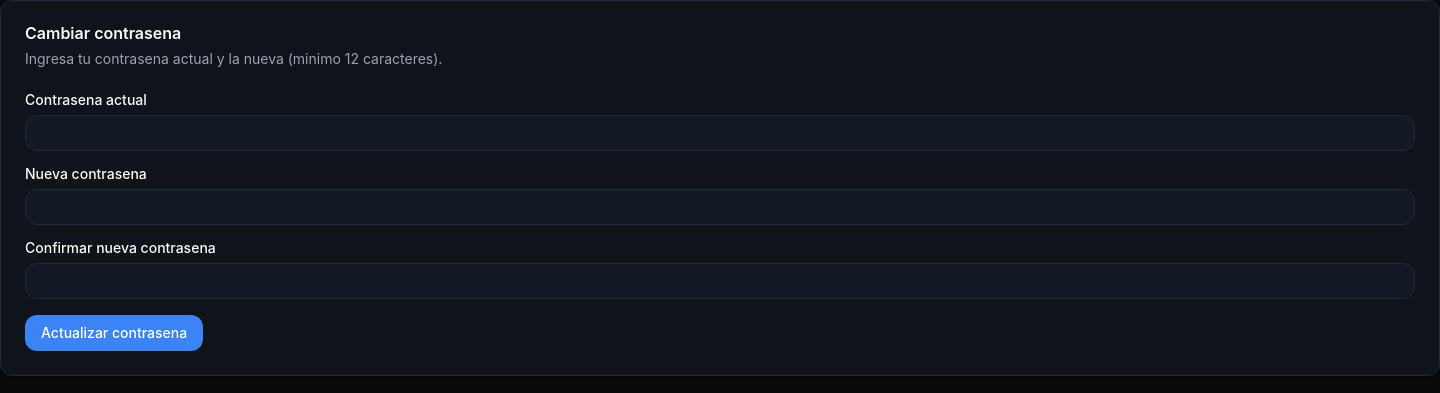
Test: ChangePasswordForm pending › Given submit en vuelo When responde lento Then muestra Actualizando...
This screenshot has width=1440, height=393.
Type "old-pass-123" into the password field labelled "Contrasena actual".
click(720, 133); type("old-pass-123")  # box [25, 115, 1415, 151]
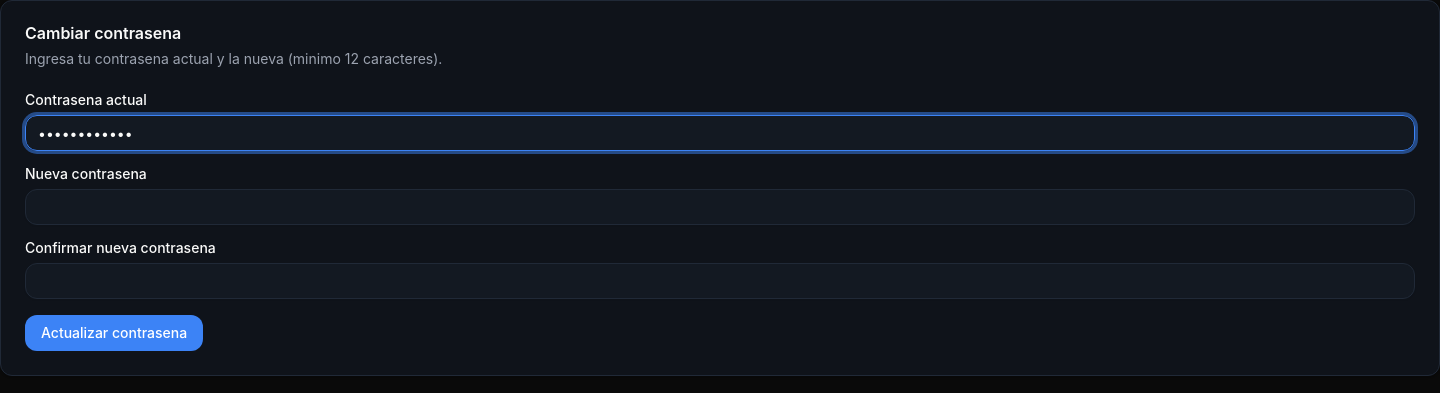
Type "nueva-pass-larga-1" into the password field labelled "Nueva contrasena".
click(720, 207); type("nueva-pass-larga-1")  # box [25, 189, 1415, 225]
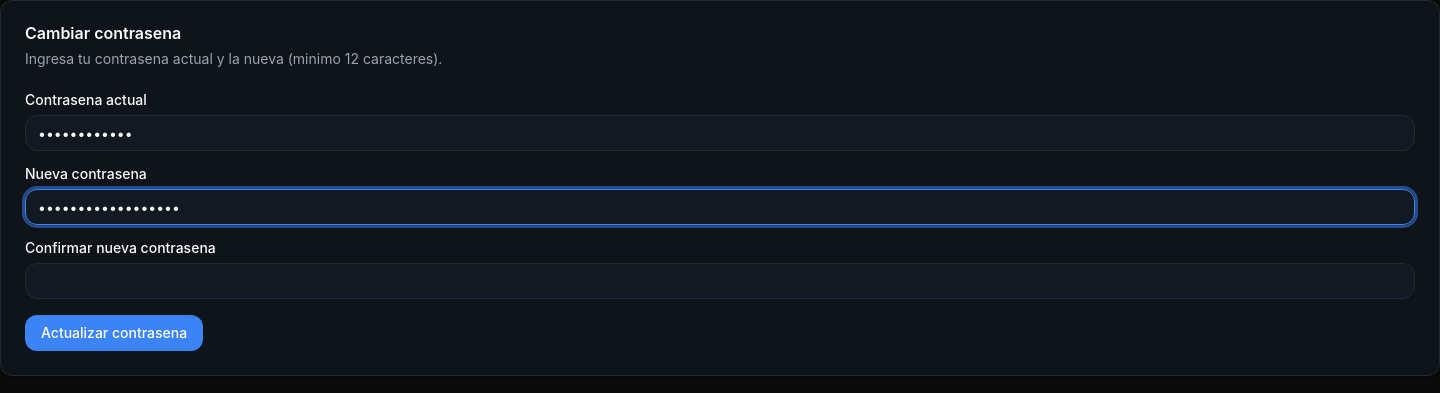
Type "nueva-pass-larga-1" into the password field labelled "Confirmar nueva contrasena".
click(720, 281); type("nueva-pass-larga-1")  # box [25, 263, 1415, 299]
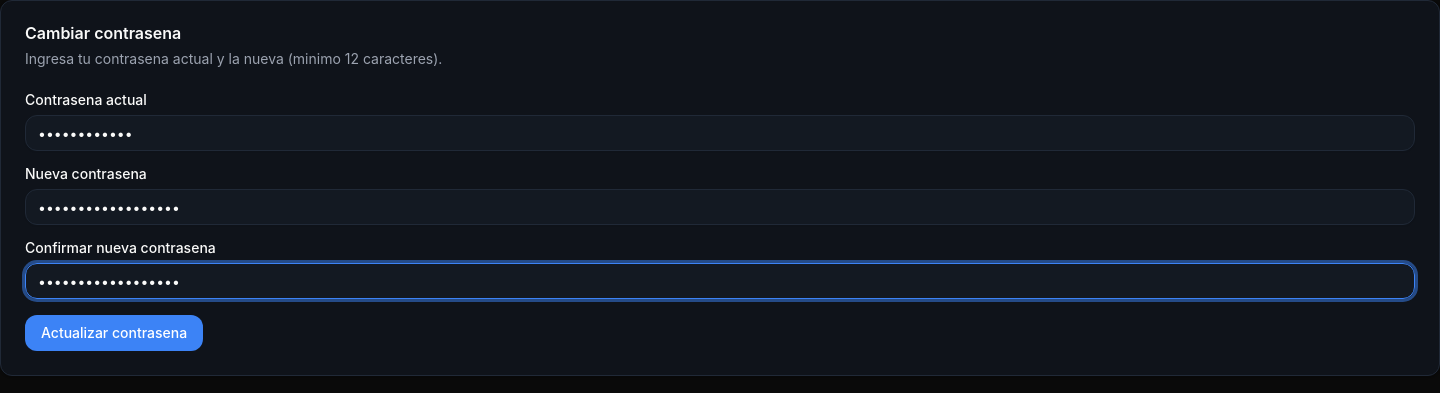
Click the button "Actualizar contrasena".
click(114, 333)  # box [25, 315, 203, 351]
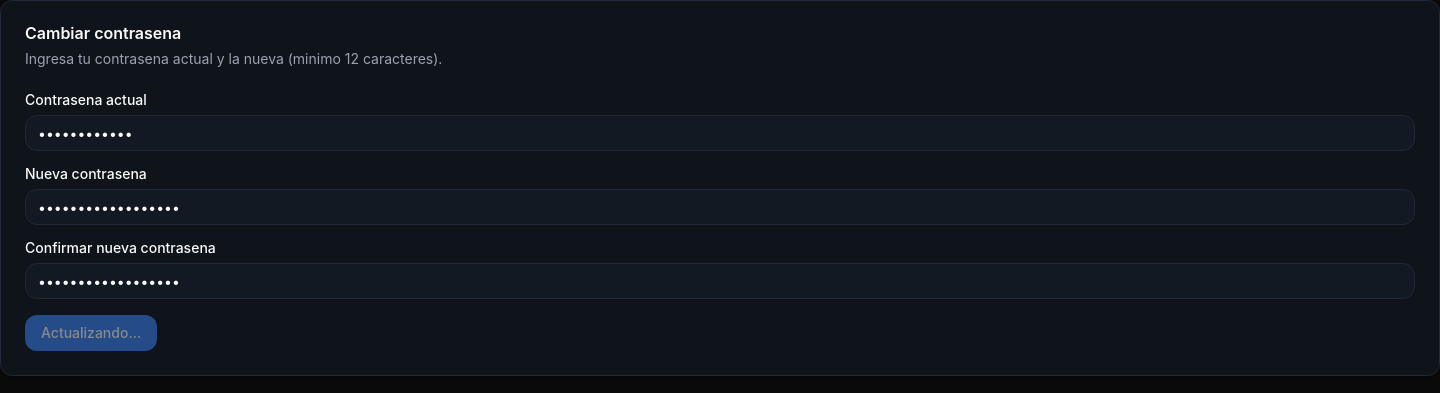
expect the button "Actualizando..." is disabled: met, box [25, 315, 157, 351]
